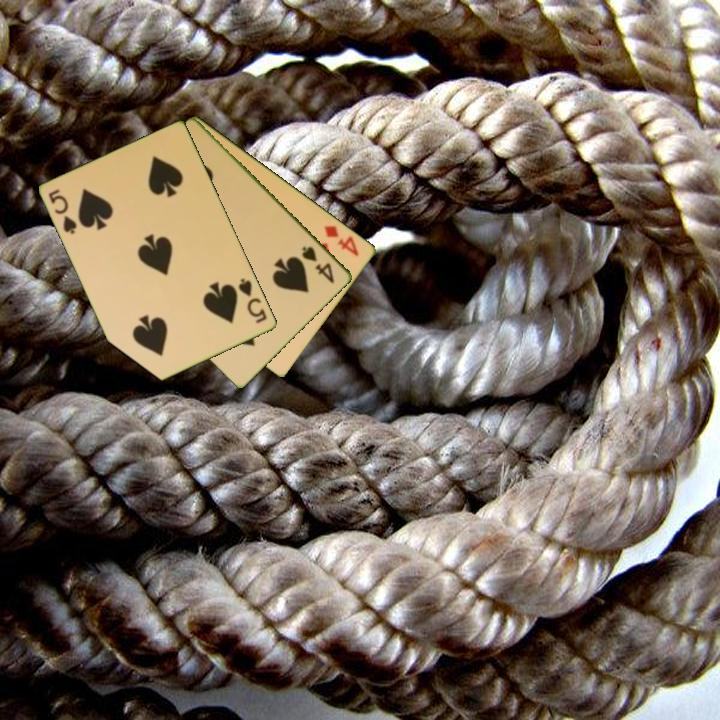4d: (321, 222, 362, 259)
4s: (299, 243, 338, 287)
5s: (235, 275, 270, 326), (45, 186, 80, 237)
